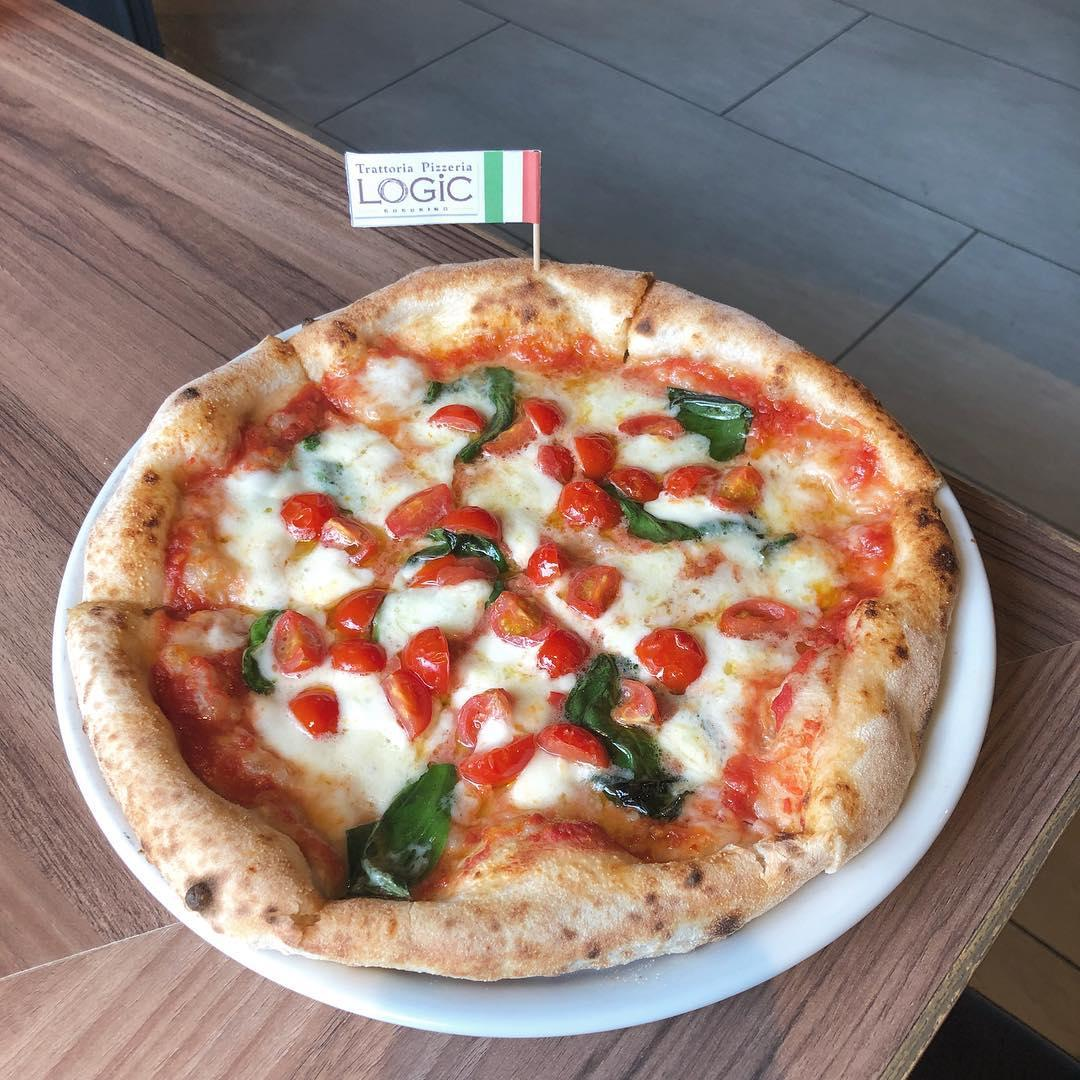Basil: (568, 647, 690, 829), (334, 753, 459, 907), (657, 380, 765, 465), (430, 366, 522, 452), (412, 525, 508, 600), (608, 493, 701, 547), (240, 599, 290, 695)
Pizza: (48, 245, 972, 995)
Tomatoes: (634, 620, 710, 697), (373, 664, 439, 745), (264, 603, 331, 675), (461, 731, 542, 790), (556, 551, 628, 616), (456, 681, 521, 753), (549, 474, 626, 534), (487, 585, 560, 647), (325, 580, 397, 641), (717, 590, 798, 642), (272, 482, 339, 541), (318, 509, 386, 566), (283, 680, 346, 741), (705, 460, 770, 519), (402, 620, 453, 691), (516, 524, 572, 588), (539, 721, 613, 769), (531, 624, 592, 678), (608, 672, 664, 730), (657, 460, 728, 504), (321, 631, 392, 674), (609, 458, 664, 508), (516, 393, 568, 441), (572, 429, 620, 477), (536, 439, 580, 484)
